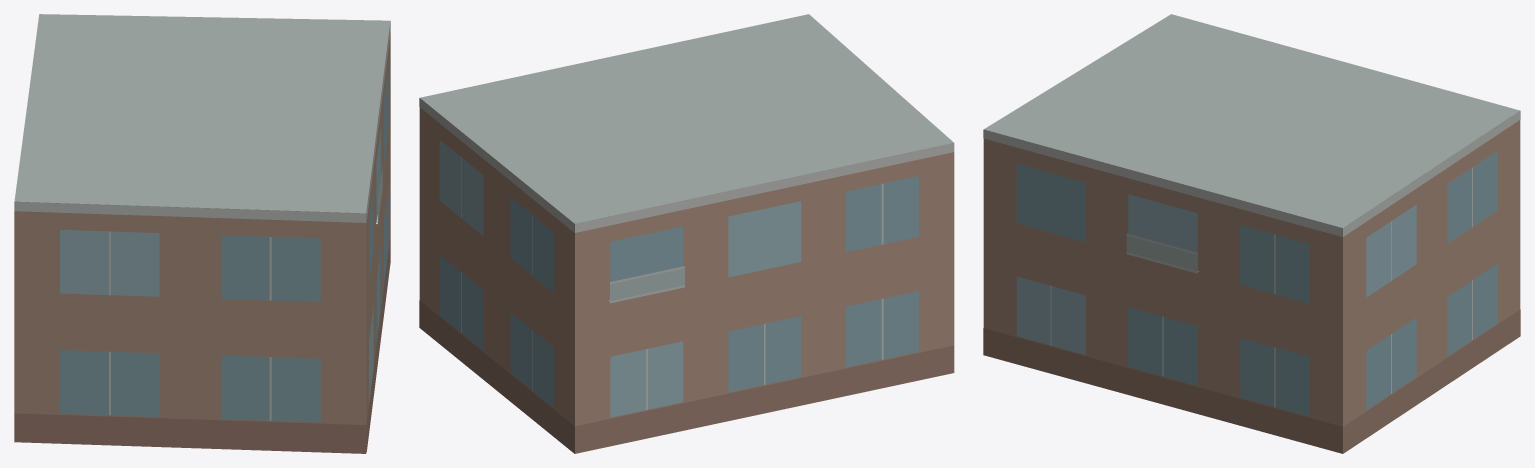
The model's file is survey-upis-32665727.glb.
3 renders of one model, left to right at view 1: azimuth 30°, elevation 25°; view 2: azimuth 150°, elevation 25°; view 3: azimuth 270°, elevation 25°, orthographic. The views are drawn at different scales.
Parts seen in each view (by area): view 1: survey-upis-32665727.tmp; view 2: survey-upis-32665727.tmp; view 3: survey-upis-32665727.tmp.
Part boxes in pixels (x1,y1,x2,y2): survey-upis-32665727.tmp: (14, 14, 390, 453); survey-upis-32665727.tmp: (419, 14, 954, 453); survey-upis-32665727.tmp: (983, 14, 1520, 453).
Bounding box in the file's own units: 12.42 × 6.1 × 13.16.
